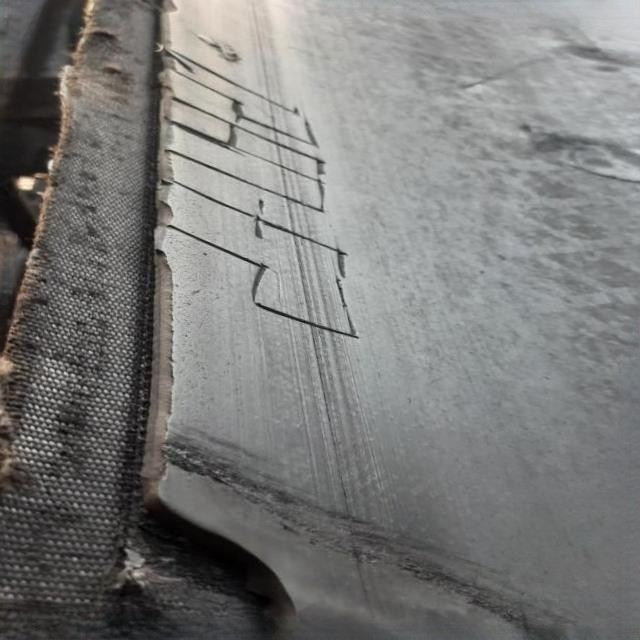Tear: (158, 49, 370, 344)
